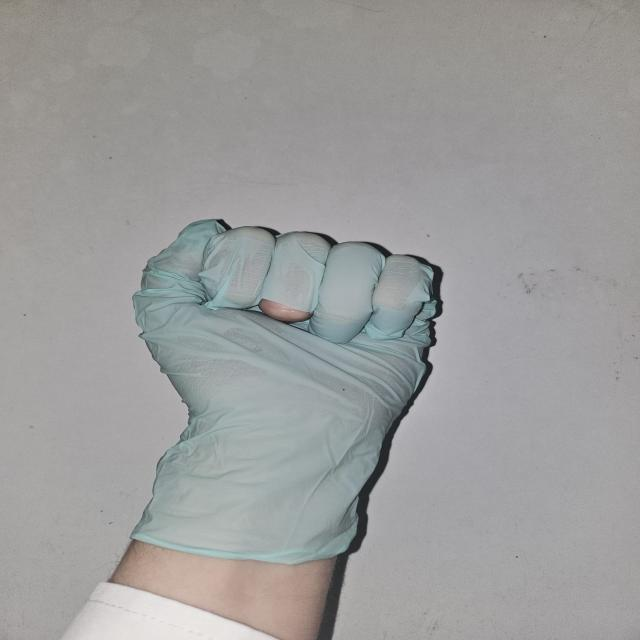gloves_damaged: (121, 215, 444, 566)
